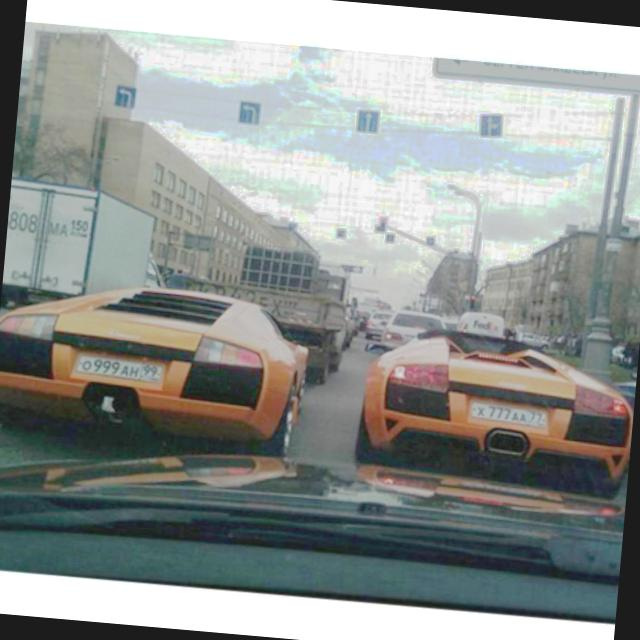citizen: (62, 344, 176, 395), (464, 394, 553, 434)
